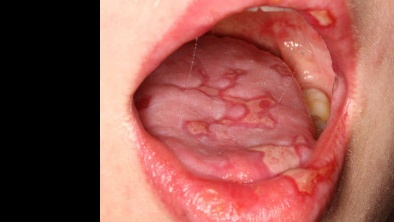SJS-TEN: (238, 107, 345, 207), (179, 52, 286, 146), (301, 0, 342, 36)
